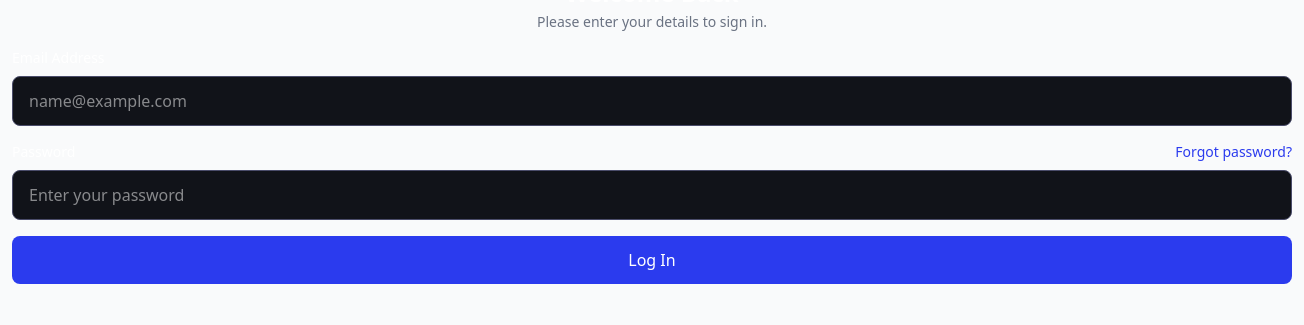
Test case: LoginForm - Integration Tests › should validate required password field
Type "test@example.com" into the field labelled "Email Address".
click(652, 101); type("test@example.com")  # box [12,76,1292,126]
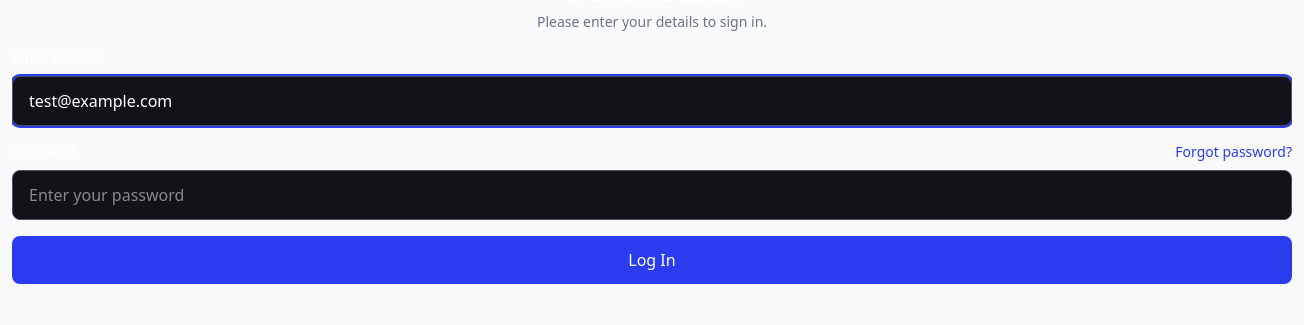
Click the button "Log In".
click(652, 260)  # box [12,236,1292,284]
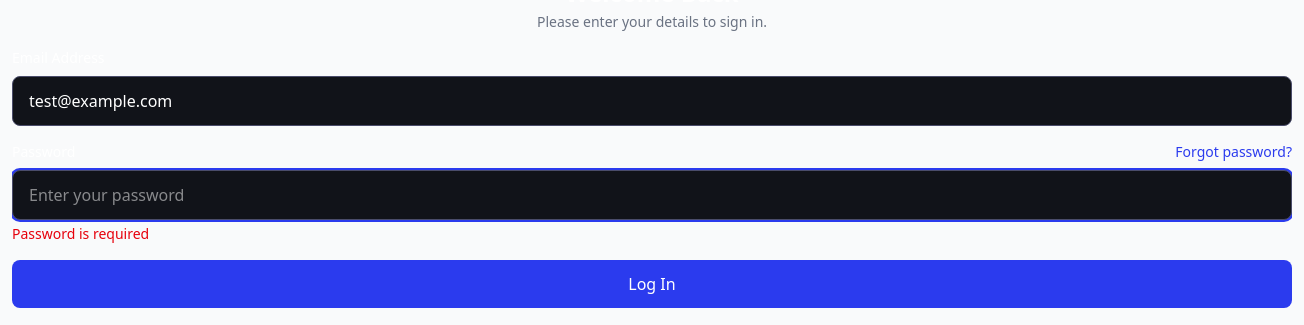
Expected: the text "Password is required" is shown, [12,224,149,243]
